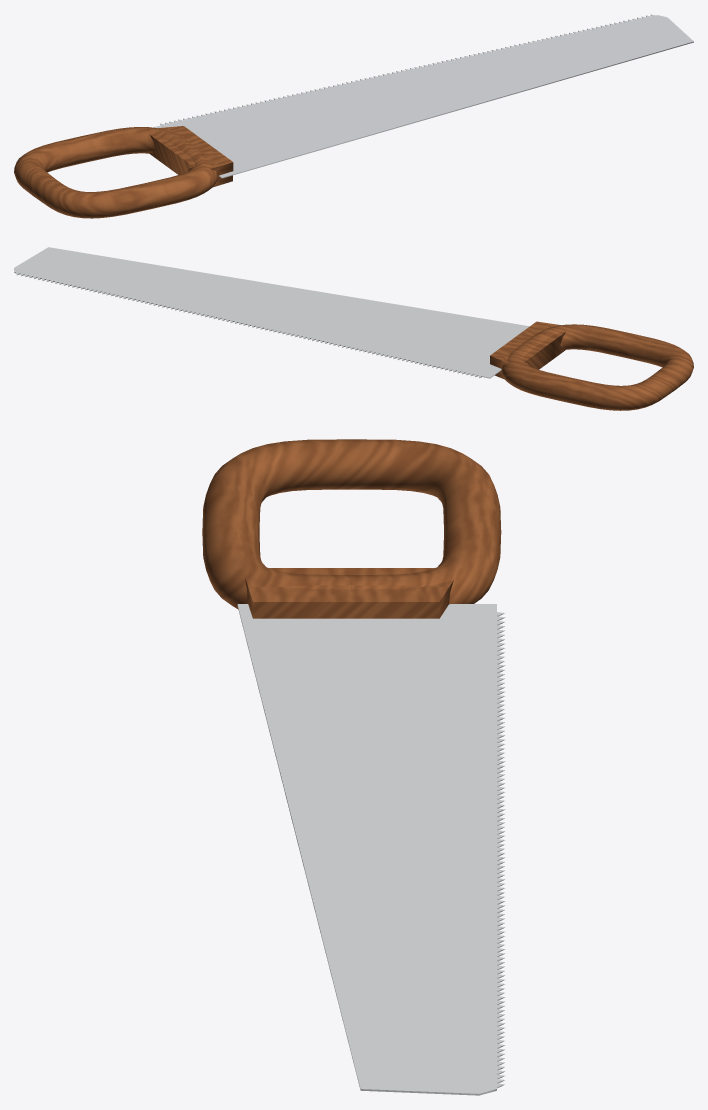
The picture shows the model from 3 angles, top to bottom: view 1: azimuth 30°, elevation 25°; view 2: azimuth 150°, elevation 25°; view 3: azimuth 270°, elevation 25°; orthographic projection. The views are drawn at different scales.
Parts seen in each view (by area): view 1: Hand saw; view 2: Hand saw; view 3: Hand saw.
Part boxes in pixels (x1,y1,x2,y2): Hand saw: (14,14,693,218); Hand saw: (14,247,693,410); Hand saw: (202,439,505,1095).
Size of the model in its own units: 0.6629 by 0.0249 by 0.138.
Materials: 2 (1 with a texture image).
